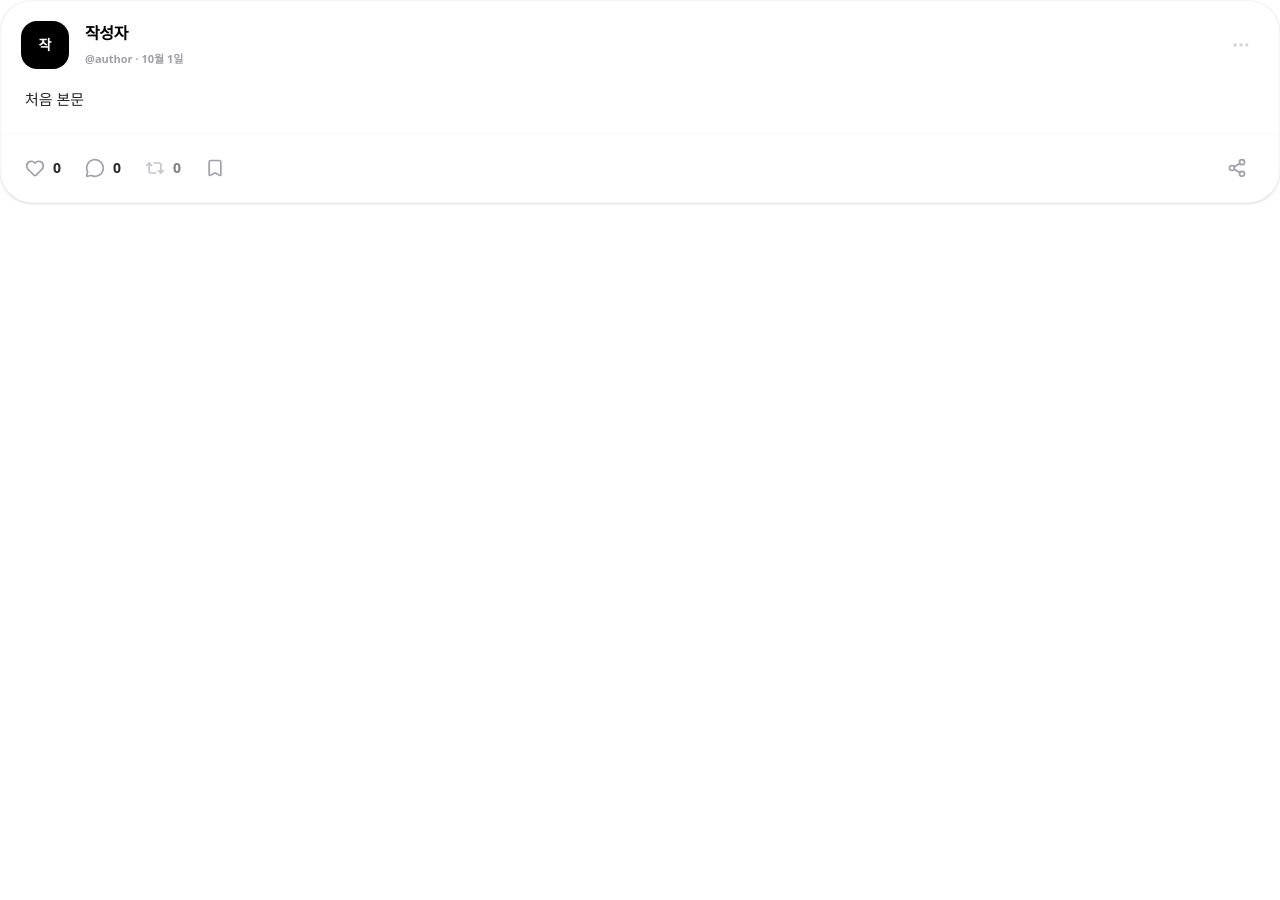
Test: 게시물 카드 수정 › 남은 시간·글자 수를 보여주고 본문이 같으면 저장을 막는다
Click the button named "게시물 메뉴" at (1241, 45), box [1223,27,1259,63]
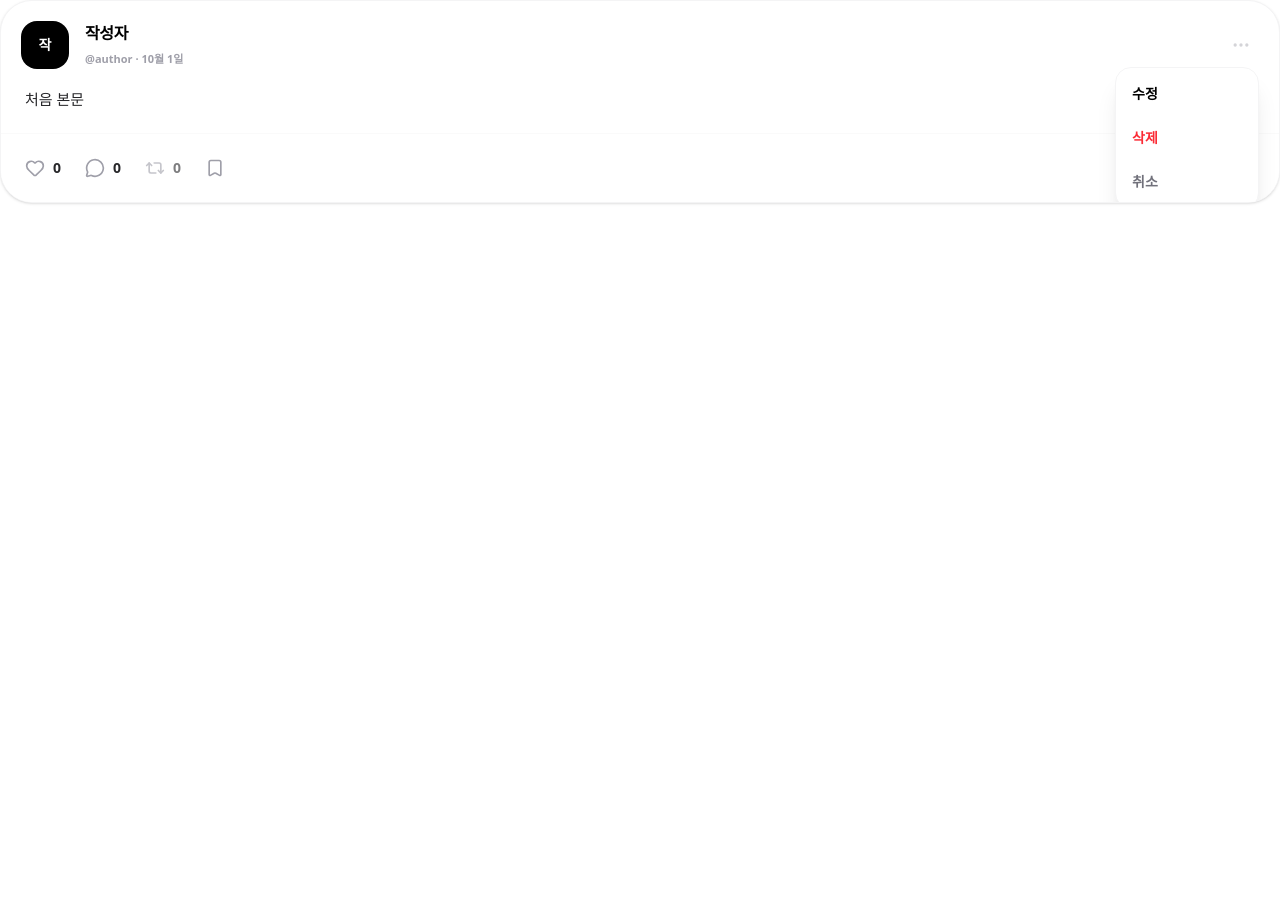
Click the button "수정" at (1187, 94), box [1116,72,1258,116]
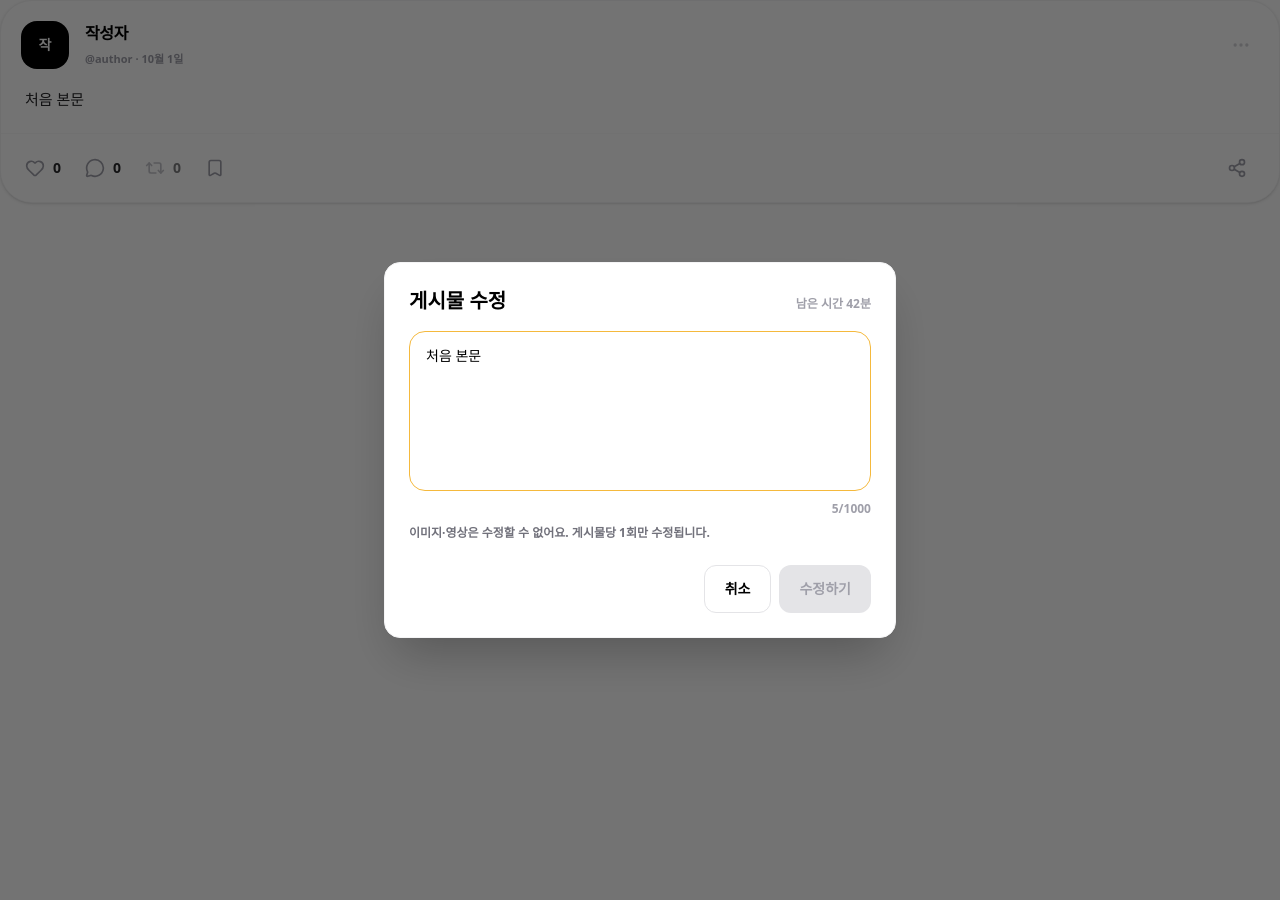
Result: the text "남은 시간 42분" is shown at [796,296,871,312]
Result: the text "5/1000" is shown at [832,500,871,517]
Result: the text "이미지·영상은 수정할 수 없어요. 게시물당 1회만 수정됩니다." is shown at [409,524,710,541]
